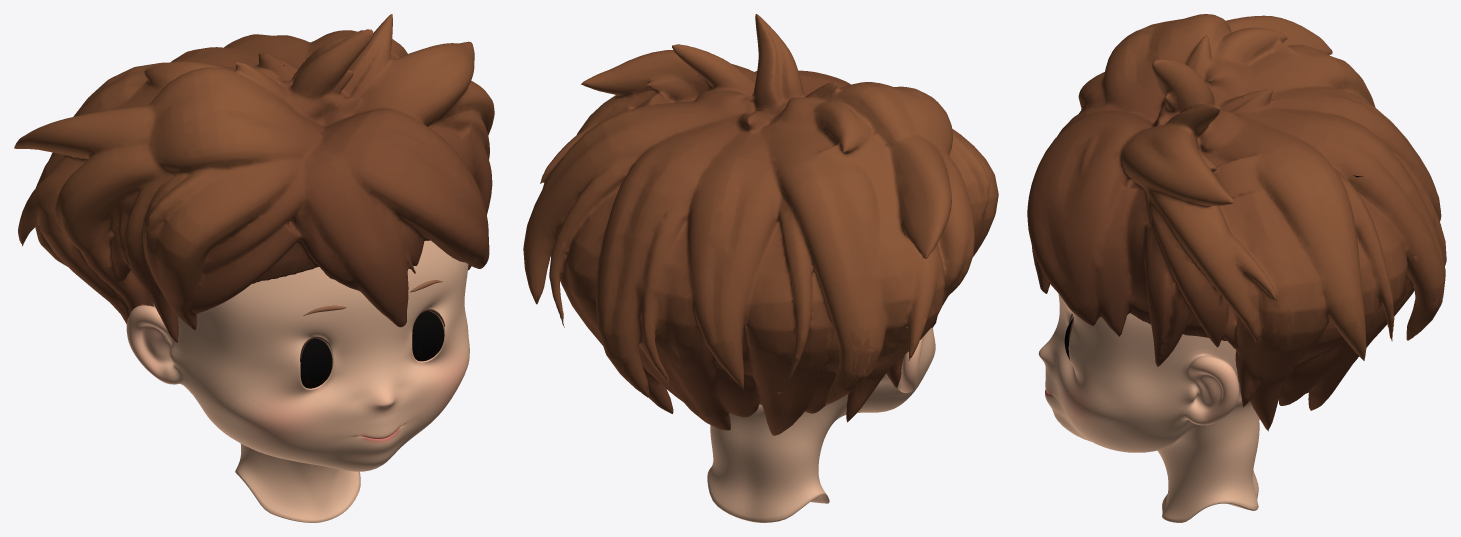
The model's file is head_candidate_v006.glb.
3 renders of one model, left to right at view 1: azimuth 30°, elevation 25°; view 2: azimuth 150°, elevation 25°; view 3: azimuth 270°, elevation 25°, orthographic. The views are drawn at different scales.
Visible parts, largest first — view 1: SCULPT_HAIR, SCULPT_HEAD, SCULPT_EYE_L, SCULPT_EYE_R; view 2: SCULPT_HAIR, SCULPT_HEAD; view 3: SCULPT_HAIR, SCULPT_HEAD.
Boxes of the visible parts, x1,y1,x2,y2 form: SCULPT_HAIR: (14,14,494,342); SCULPT_HEAD: (126,240,469,522); SCULPT_EYE_L: (412,311,444,361); SCULPT_EYE_R: (300,338,332,388); SCULPT_HAIR: (523,14,998,435); SCULPT_HEAD: (707,327,935,522); SCULPT_HAIR: (1027,14,1446,431); SCULPT_HEAD: (1038,293,1259,522).
Bounding box in the file's own units: 0.4761 × 0.5138 × 0.4134.
Materials: 5 (3 with a texture image).
